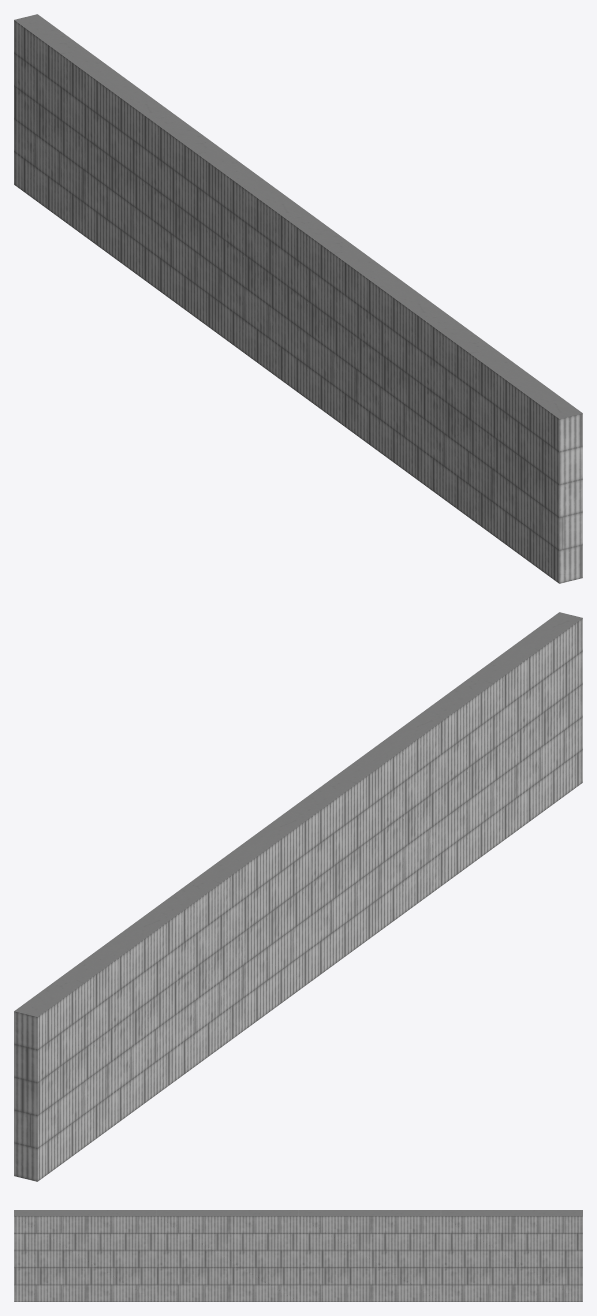
Rendered from Kabe00x4.FBX.
3 renders of one model, top to bottom at view 1: azimuth 30°, elevation 25°; view 2: azimuth 150°, elevation 25°; view 3: azimuth 270°, elevation 25°, orthographic. The views are drawn at different scales.
Visible parts, largest first — view 1: Kabe001; view 2: Kabe001; view 3: Kabe001.
Boxes of the visible parts, x1,y1,x2,y2 form: Kabe001: [14, 14, 582, 583]; Kabe001: [14, 612, 582, 1181]; Kabe001: [14, 1210, 582, 1301].
Size of the model in its own units: 5.91 by 39.37 by 236.
